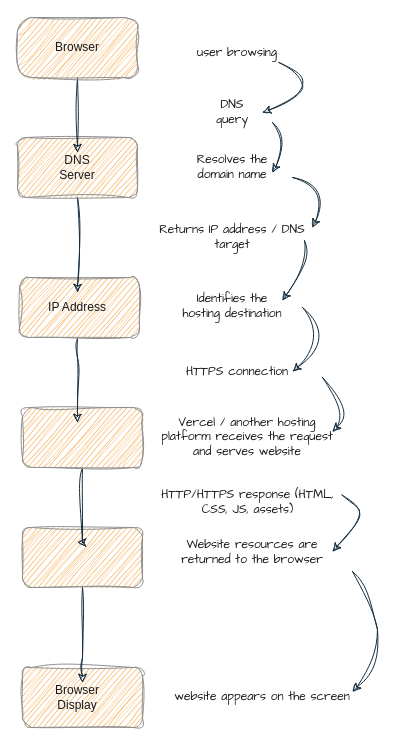
This 396x745 diagram has some shape labels left out. Here are the shapes that lost their labels. From the top down, the centre of each, then its label:
At point (82, 437): "Web Server".
At point (82, 557): "HTTP/HTTPS Response".
